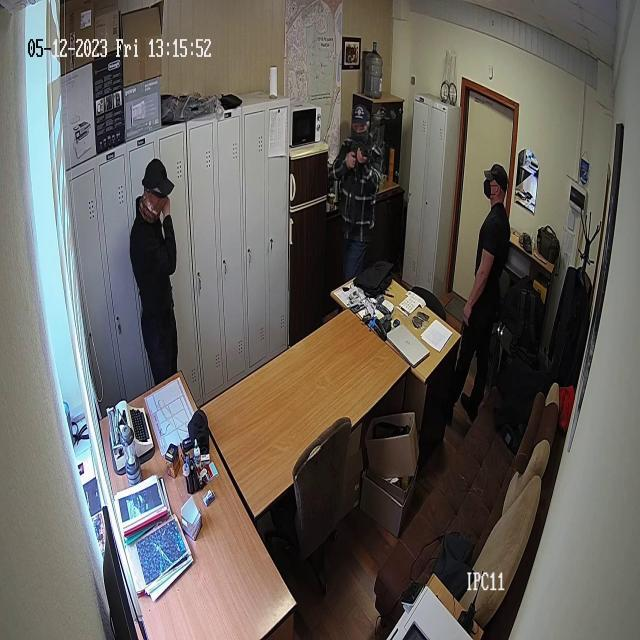pistol: (346, 144, 376, 177)
